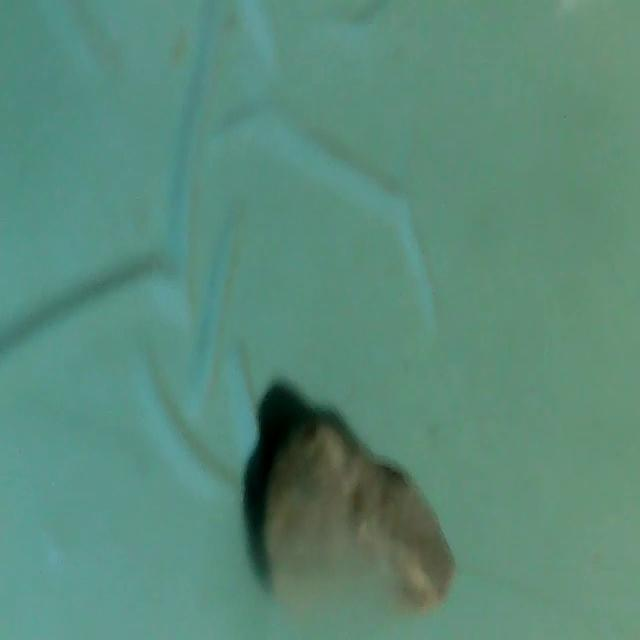rock: (233, 405, 460, 617)
